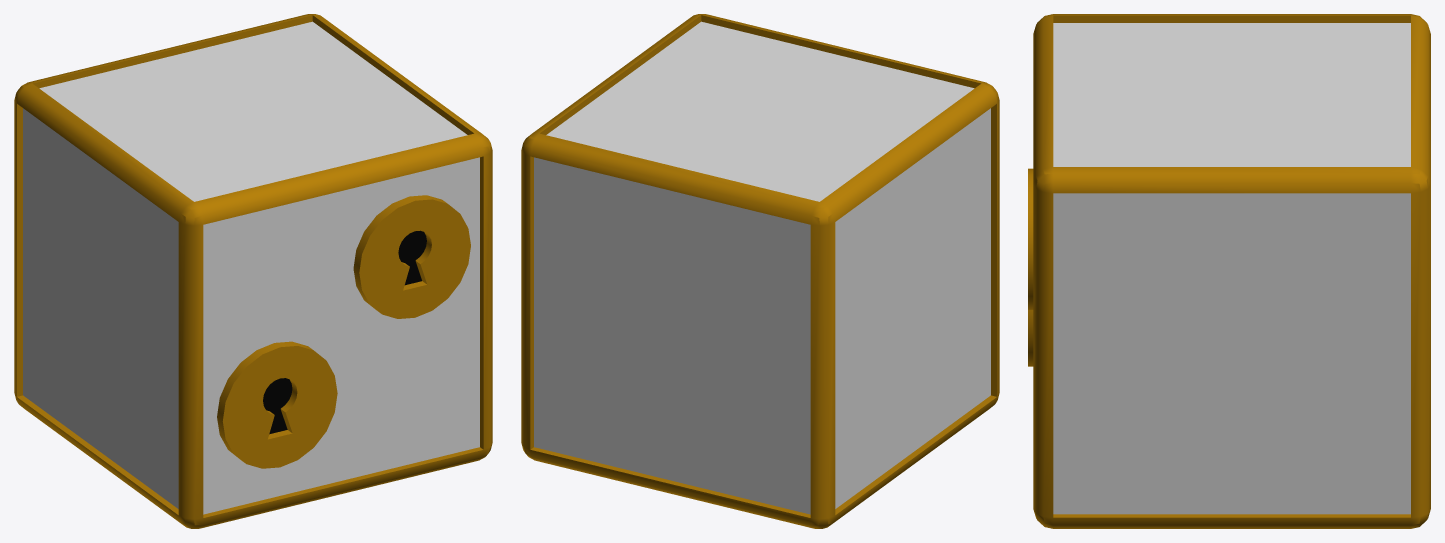
Rendered from friend2.fbx.
3 renders of one model, left to right at view 1: azimuth 30°, elevation 25°; view 2: azimuth 150°, elevation 25°; view 3: azimuth 270°, elevation 25°, orthographic. The views are drawn at different scales.
Visible parts, largest first — view 1: pCube3, pCylinder1, pCylinder2; view 2: pCube3; view 3: pCube3, pCylinder2.
Part boxes in pixels (left/top/right/bottom): pCube3: left=14, top=14, right=492, bottom=528; pCylinder1: left=217, top=341, right=337, bottom=468; pCylinder2: left=353, top=195, right=470, bottom=318; pCube3: left=521, top=14, right=999, bottom=528; pCube3: left=1033, top=14, right=1430, bottom=528; pCylinder2: left=1028, top=168, right=1033, bottom=310.
Size of the model in its own units: 1 by 1 by 1.01.
